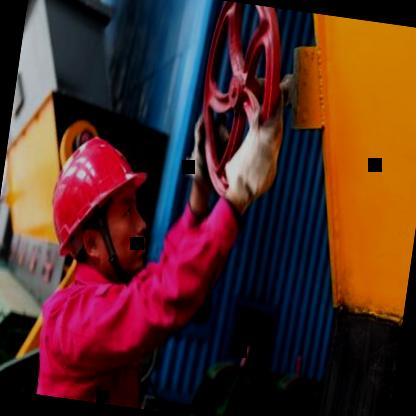helmet: (29, 115, 168, 298)
